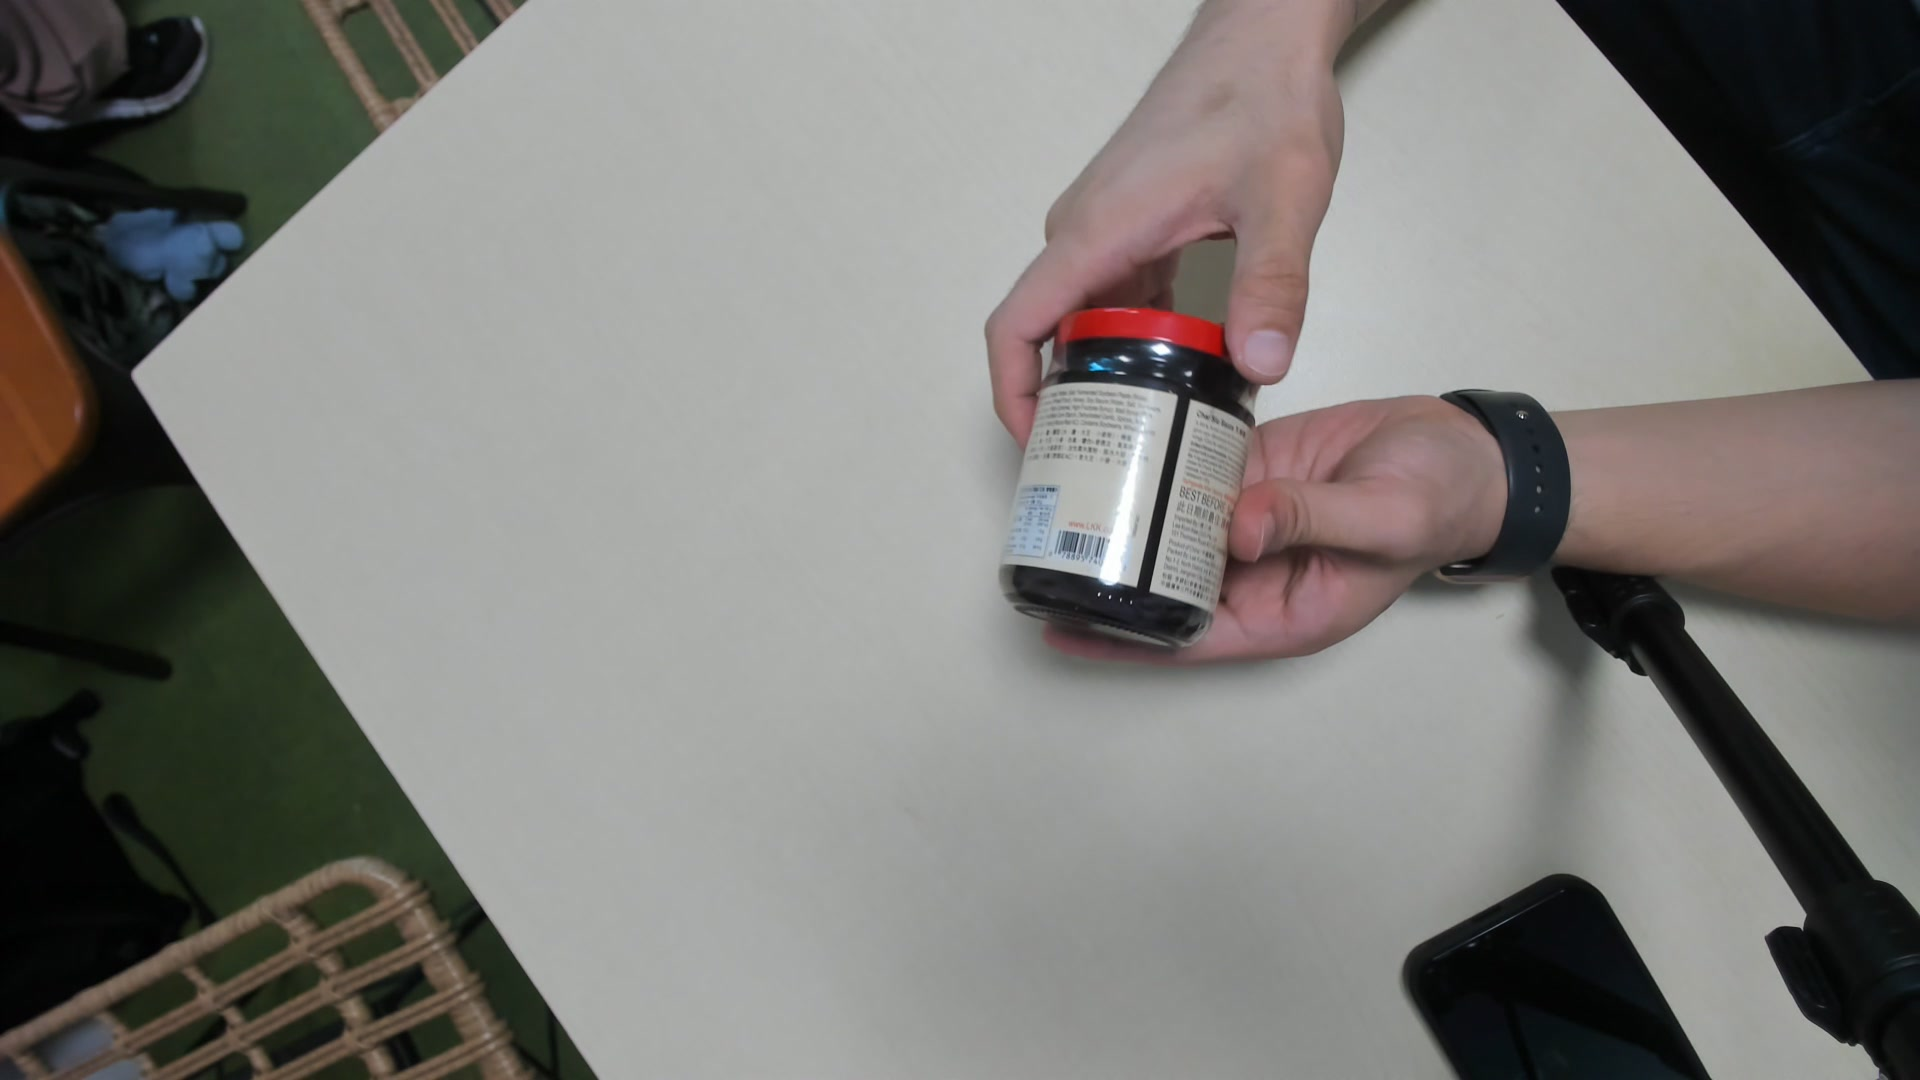OtherSauceDressing_200-299g_NonHalal_NonHealthy: (1000, 307, 1258, 659)
